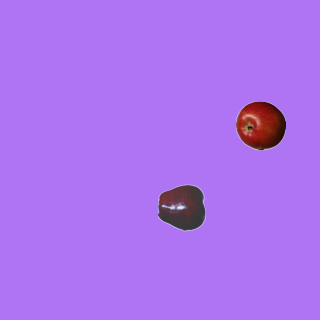Apple Braeburn: (235, 100, 285, 150)
Apple Red Delicious: (157, 182, 207, 232)
